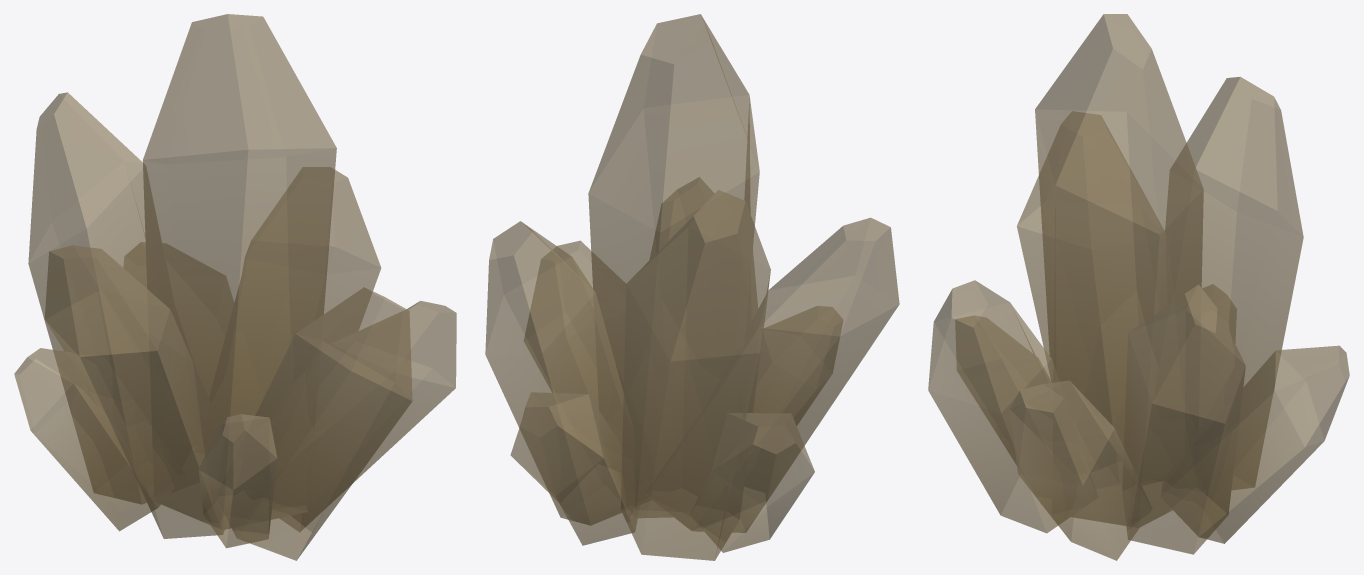
Rendered from OBJ_ElectricQuartz.fbx.
3 renders of one model, left to right at view 1: azimuth 30°, elevation 25°; view 2: azimuth 150°, elevation 25°; view 3: azimuth 270°, elevation 25°, orthographic. The views are drawn at different scales.
Parts seen in each view (by area): view 1: OBJ_ElectricQuartz; view 2: OBJ_ElectricQuartz; view 3: OBJ_ElectricQuartz.
Boxes of the visible parts, left/top/right/bottom form: OBJ_ElectricQuartz: left=14, top=14, right=456, bottom=560; OBJ_ElectricQuartz: left=485, top=14, right=899, bottom=560; OBJ_ElectricQuartz: left=928, top=14, right=1349, bottom=560.
Size of the model in its own units: 46.59 by 62.55 by 46.99.
